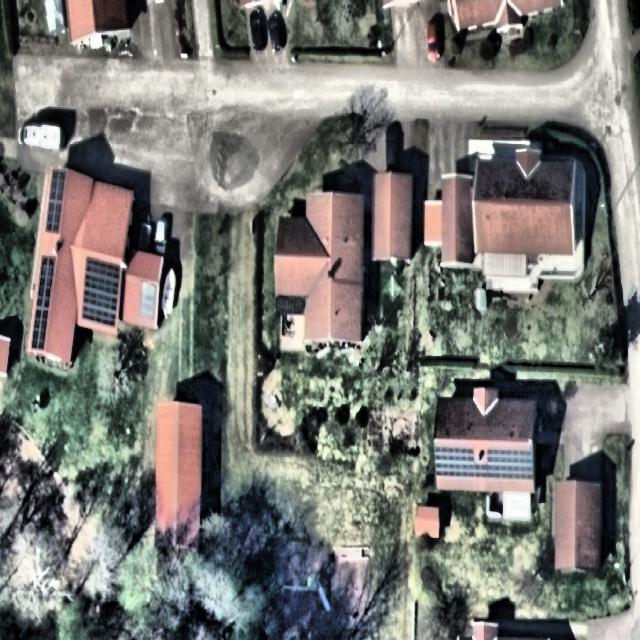roof_pv: (433, 447, 532, 481), (80, 253, 122, 332), (28, 247, 57, 356), (41, 165, 69, 231)
